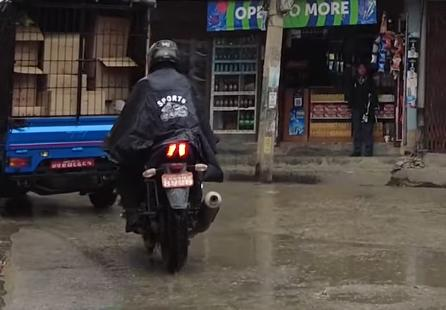bike: (105, 92, 226, 284)
